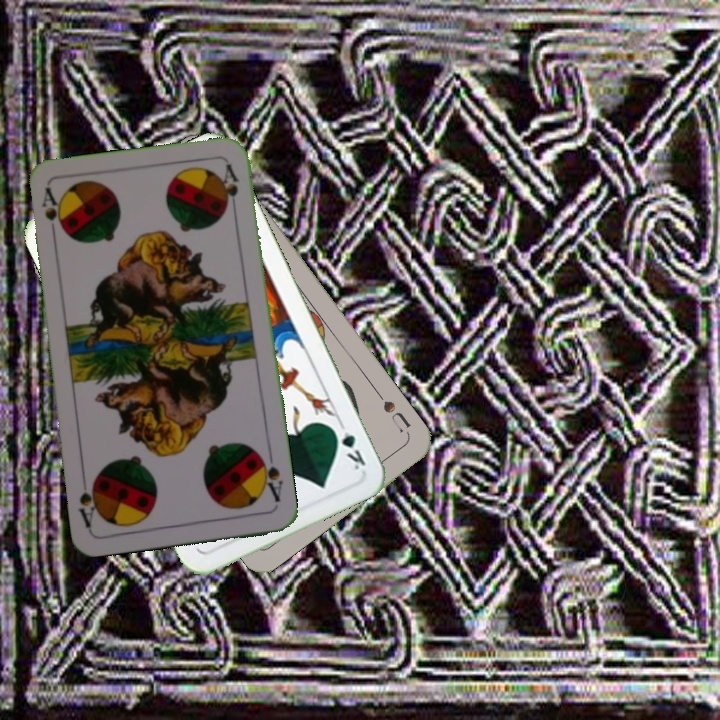GK: (328, 417, 368, 473)
SA: (255, 448, 286, 505), (38, 184, 66, 243)
SU: (372, 387, 414, 435)
